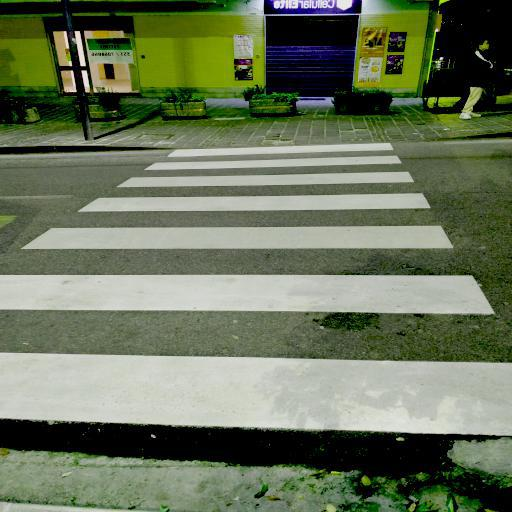crosswalk: (0, 263, 508, 442), (70, 167, 436, 217)
